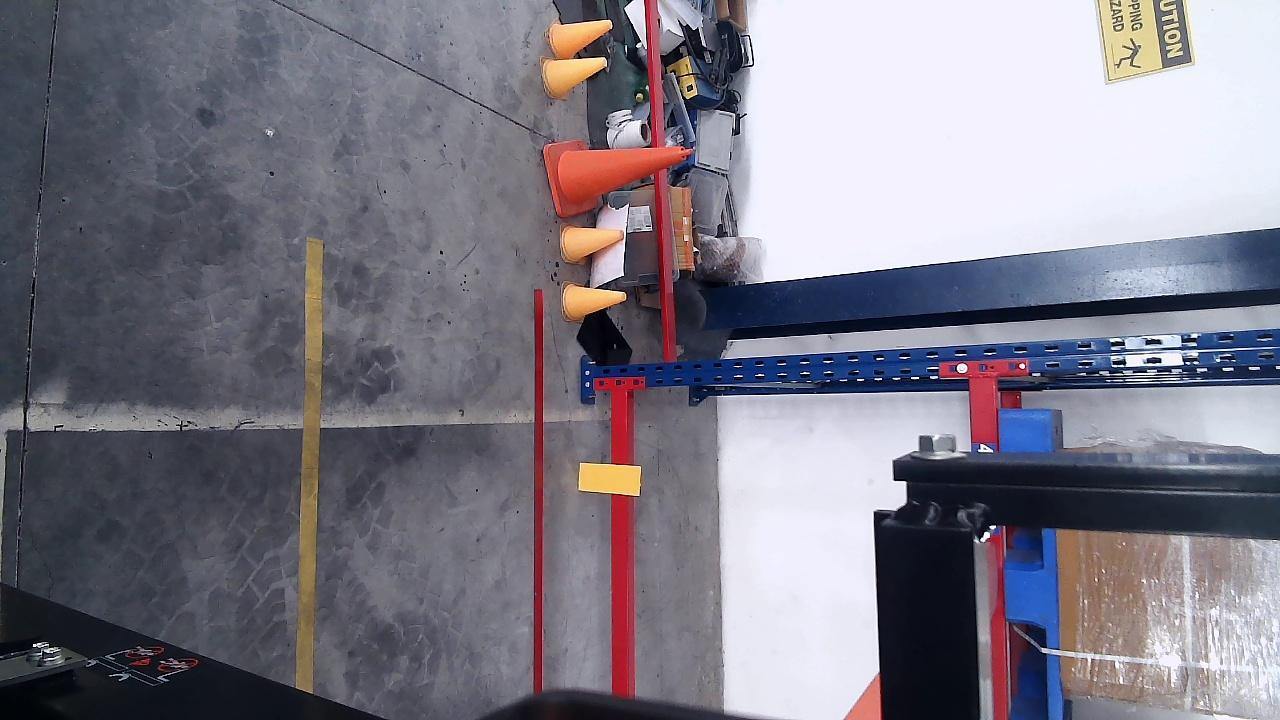h_rack: (612, 391, 634, 699)
orange_strip: (577, 461, 640, 492)
red_line: (531, 290, 544, 688)
yellow_line: (295, 239, 324, 694)
